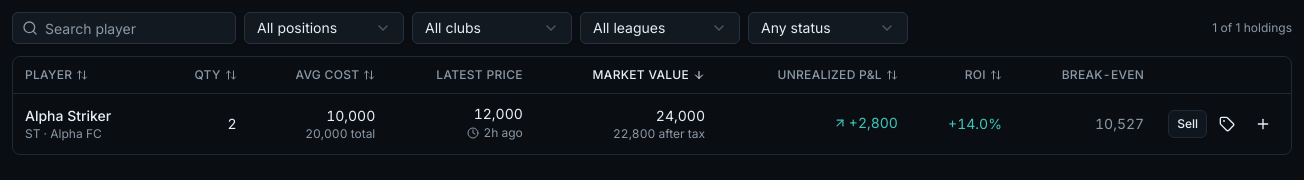
Test: empty states › explains when filters hide every row
In the field labelled "Search player": (124, 28) x1=12 y1=12 x2=236 y2=44, type "zzz"
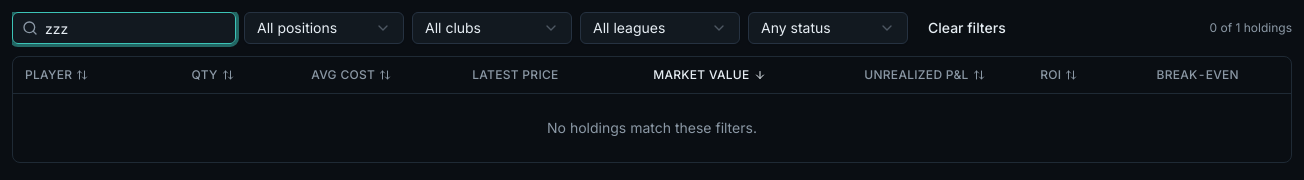
Check: the text "No holdings match these filters." is shown, box x1=547 y1=118 x2=757 y2=136
Check: the text "0 of 1 holdings" is shown, box x1=1210 y1=20 x2=1292 y2=36
